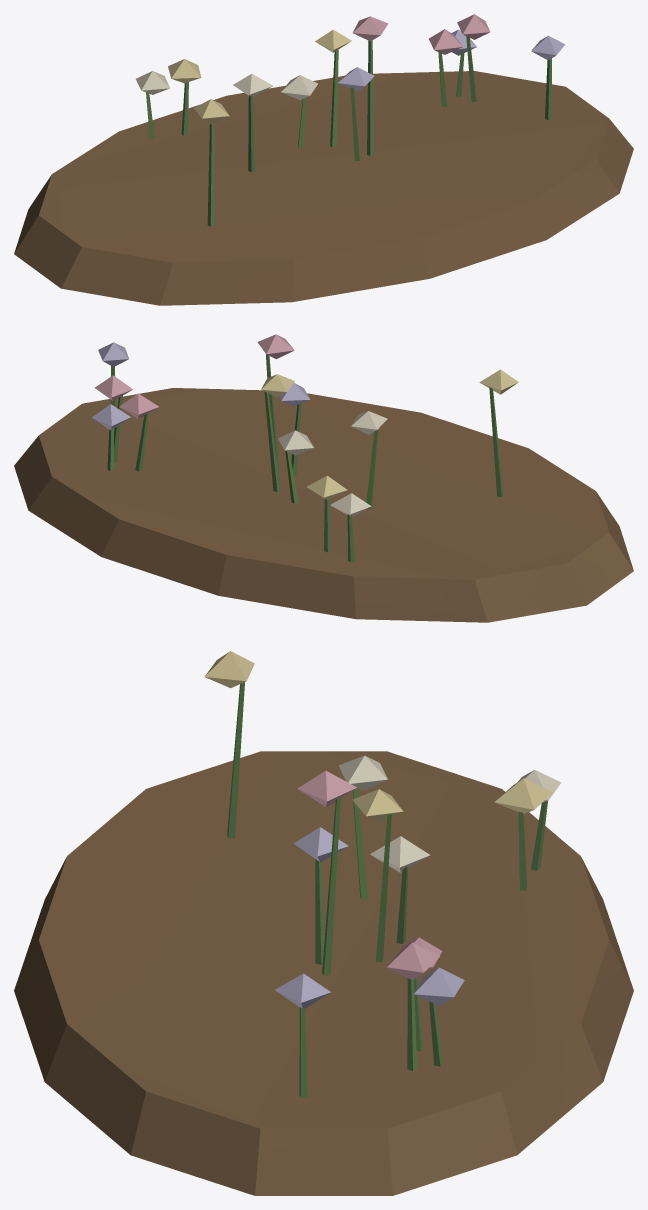
File: flower_bed_a.glb
3 renders of one model, top to bottom at view 1: azimuth 30°, elevation 25°; view 2: azimuth 150°, elevation 25°; view 3: azimuth 270°, elevation 25°, orthographic. The views are drawn at different scales.
Parts seen in each view (by area): view 1: flower_bed_a; view 2: flower_bed_a; view 3: flower_bed_a.
Part boxes in pixels (bbox=[...]): flower_bed_a: bbox=[14, 14, 633, 305]; flower_bed_a: bbox=[14, 334, 633, 622]; flower_bed_a: bbox=[14, 651, 633, 1195].
Bounding box in the file's own units: 1.8 × 0.52 × 1.15.
